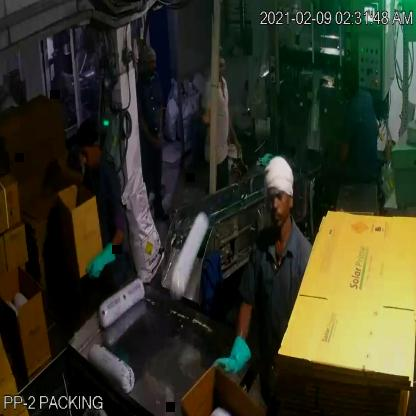glove: (204, 329, 260, 388), (82, 235, 120, 289)
no_glove: (322, 117, 359, 172), (221, 99, 243, 168), (135, 104, 160, 154), (154, 81, 166, 152)
